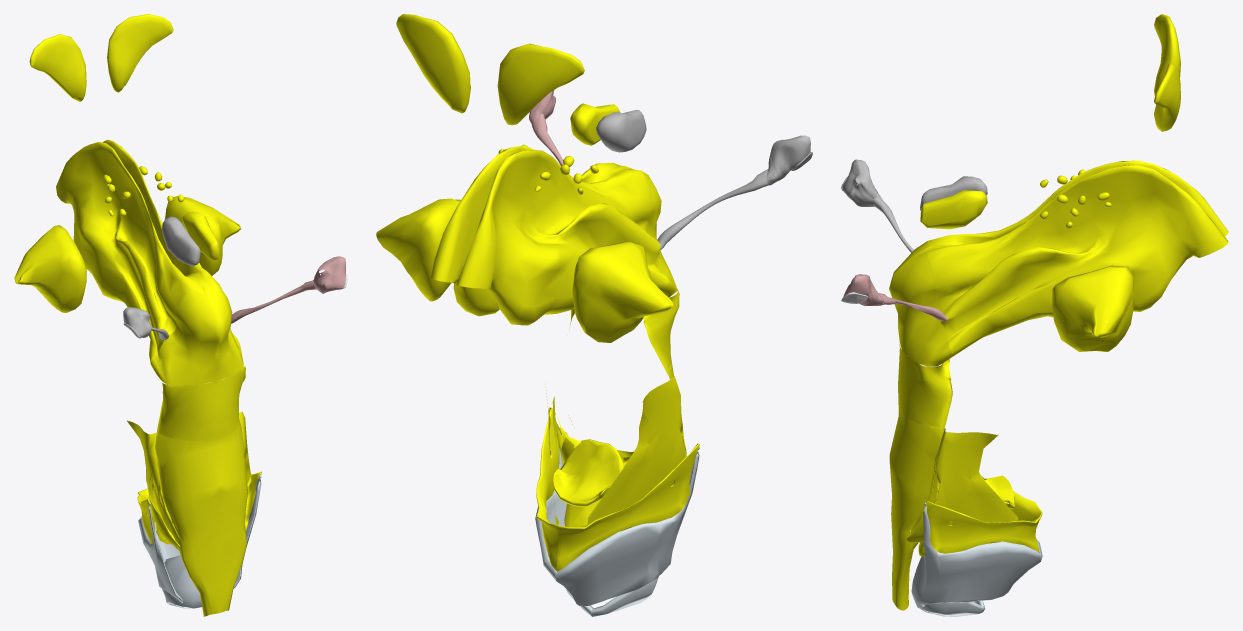
The model's file is Respiratory.glb.
3 views of the same model, side by side, from view 1: azimuth 30°, elevation 25°; view 2: azimuth 150°, elevation 25°; view 3: azimuth 270°, elevation 25° (orthographic). The views are drawn at different scales.
Visible parts, largest first — view 1: nasal_mucosa, laryngopharynx, nasopharynx, oropharynx, left_maxillary_sinus, right_frontal_sinus, left_frontal_sinus, laryngeal_vestibule, right_maxillary_sinus, thyroid_cartilage, cricoid_cartilage, left_sphenoid_sinus (+5 smaller); view 2: nasal_mucosa, thyroid_cartilage, left_maxillary_sinus, thyrohyoid_membrane, laryngeal_vestibule, left_frontal_sinus, right_maxillary_sinus, right_frontal_sinus, epiglottis, left_sphenoid_sinus, left_middle_ear_mucosa, oropharynx (+4 smaller); view 3: nasal_mucosa, laryngopharynx, right_maxillary_sinus, thyroid_cartilage, laryngeal_vestibule, nasopharynx, thyrohyoid_membrane, oropharynx, right_sphenoid_sinus, right_frontal_sinus, cricoid_cartilage, left_frontal_sinus (+4 smaller).
Part boxes in pixels (x1,y1,x2,y2): nasal_mucosa: [56, 139, 235, 362]; laryngopharynx: [154, 421, 247, 616]; nasopharynx: [150, 284, 243, 384]; oropharynx: [156, 366, 245, 440]; left_maxillary_sinus: [14, 225, 86, 312]; right_frontal_sinus: [107, 14, 173, 92]; left_frontal_sinus: [29, 34, 86, 101]; laryngeal_vestibule: [127, 411, 251, 547]; right_maxillary_sinus: [164, 196, 240, 275]; thyroid_cartilage: [138, 478, 261, 602]; cricoid_cartilage: [162, 555, 201, 608]; left_sphenoid_sinus: [161, 216, 200, 266]; nasal_mucosa: [431, 146, 668, 325]; thyroid_cartilage: [535, 417, 699, 606]; left_maxillary_sinus: [572, 242, 673, 342]; thyrohyoid_membrane: [536, 407, 699, 571]; laryngeal_vestibule: [545, 376, 686, 524]; left_frontal_sinus: [497, 43, 584, 125]; right_maxillary_sinus: [376, 198, 460, 301]; right_frontal_sinus: [396, 14, 470, 113]; epiglottis: [553, 439, 623, 527]; left_sphenoid_sinus: [596, 110, 646, 152]; left_middle_ear_mucosa: [766, 135, 810, 185]; oropharynx: [569, 291, 679, 371]; nasal_mucosa: [927, 160, 1228, 356]; laryngopharynx: [889, 407, 944, 610]; right_maxillary_sinus: [1052, 265, 1134, 351]; thyroid_cartilage: [919, 506, 1042, 606]; laryngeal_vestibule: [906, 428, 1018, 542]; nasopharynx: [889, 241, 952, 366]; thyrohyoid_membrane: [926, 491, 1042, 553]; oropharynx: [898, 344, 952, 427]; right_sphenoid_sinus: [920, 190, 987, 229]; right_frontal_sinus: [1154, 63, 1180, 131]; cricoid_cartilage: [911, 556, 985, 616]; left_frontal_sinus: [1154, 14, 1180, 95].
Size of the model in its own units: 0.0217 by 0.0468 by 0.0289.
8 materials, 4 textured.
